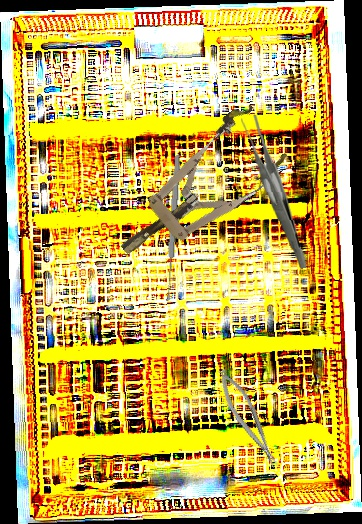Dressing Forceps: (240, 113, 307, 271)
Needle Holder: (212, 363, 283, 474)
Speculum: (98, 99, 296, 280)
Surgical Spoon: (163, 154, 182, 302)
